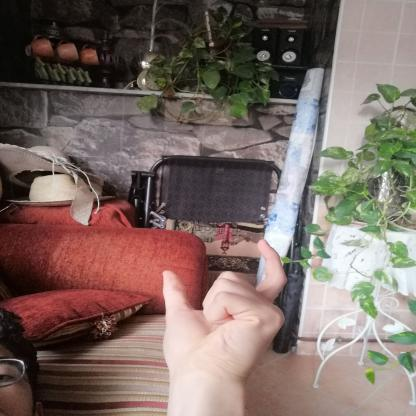NOON: (148, 232, 304, 396)
